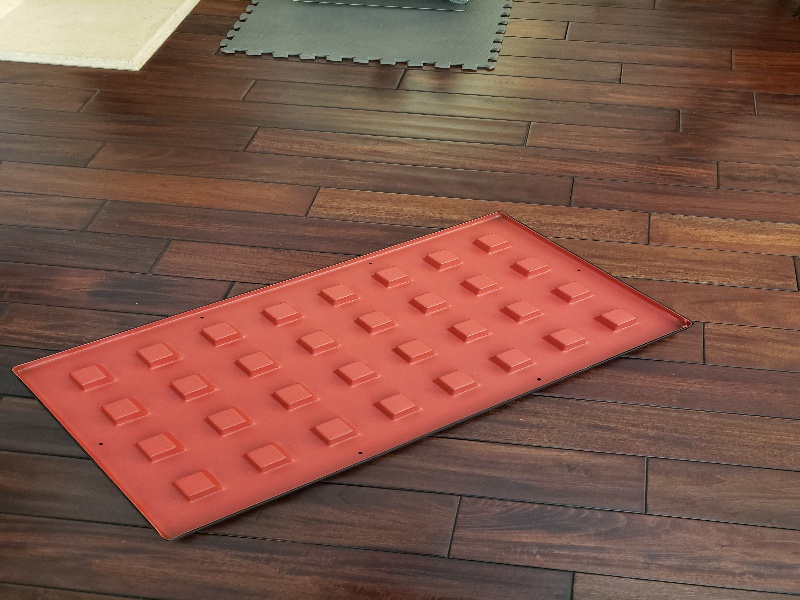ftc_base: (3, 204, 709, 546)
